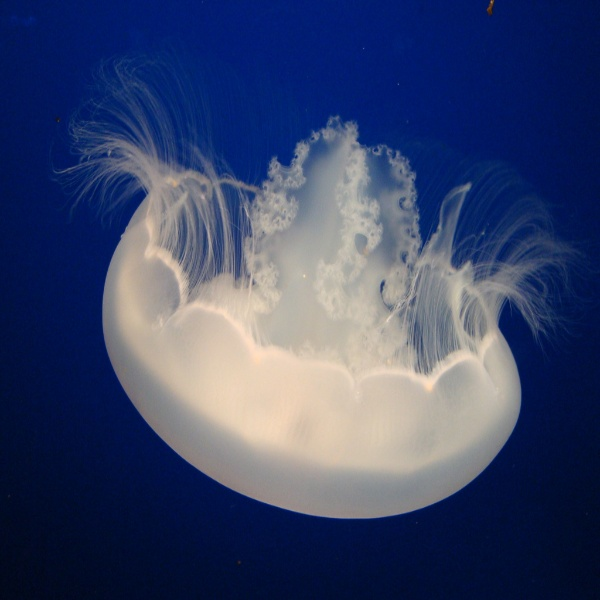Jellyfish: (45, 34, 596, 519)
